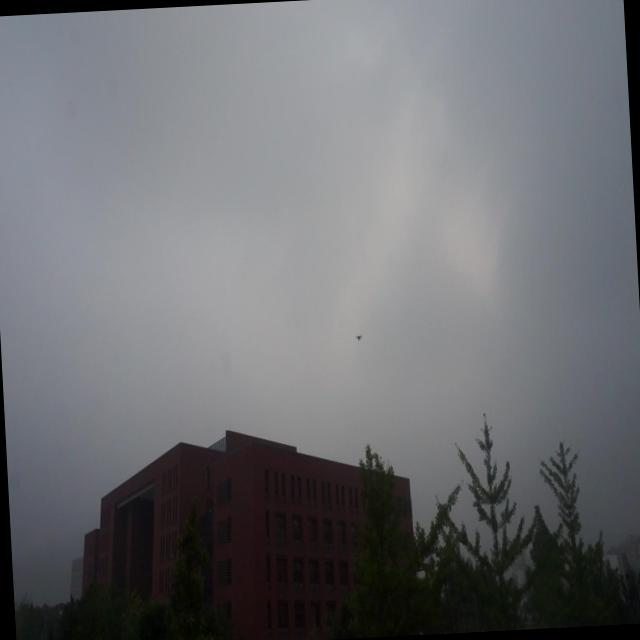drone: (354, 332, 364, 344)
